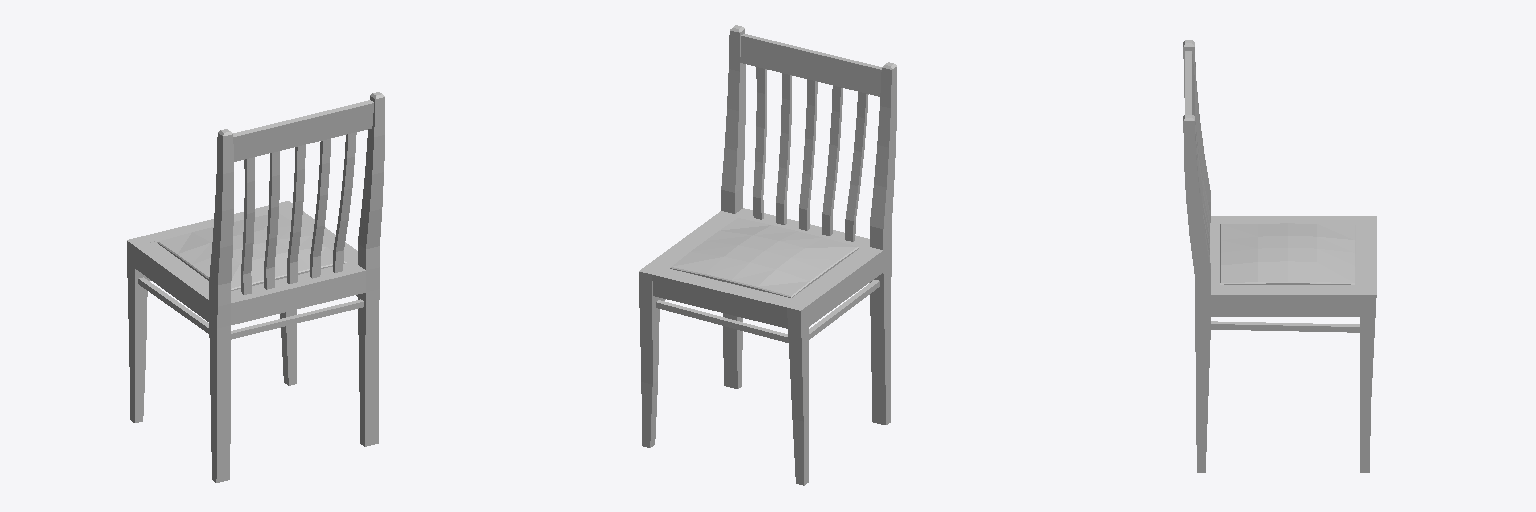
The model's file is chair.obj.
3 views of the same model, side by side, from view 1: azimuth 30°, elevation 25°; view 2: azimuth 150°, elevation 25°; view 3: azimuth 270°, elevation 25° (orthographic).
Visible parts, largest first — view 1: SM_Chair_01; view 2: SM_Chair_01; view 3: SM_Chair_01.
Boxes of the visible parts, x1=… form: SM_Chair_01: x1=127, y1=92, x2=384, y2=482; SM_Chair_01: x1=639, y1=25, x2=896, y2=485; SM_Chair_01: x1=1183, y1=40, x2=1376, y2=472.
Bounding box in the file's own units: 45 × 93.85 × 46.43.